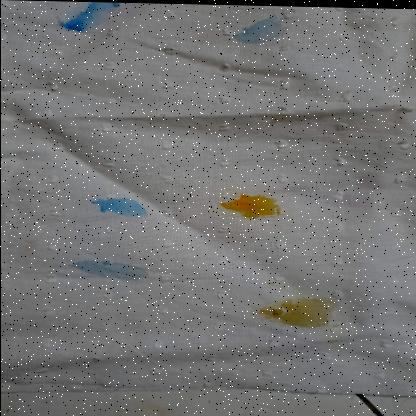spot: (262, 292, 338, 331), (54, 1, 125, 35), (210, 191, 286, 217), (232, 13, 286, 44), (91, 262, 147, 280), (91, 195, 144, 214), (64, 257, 104, 270), (19, 236, 38, 256), (324, 335, 340, 345), (259, 279, 275, 285)
